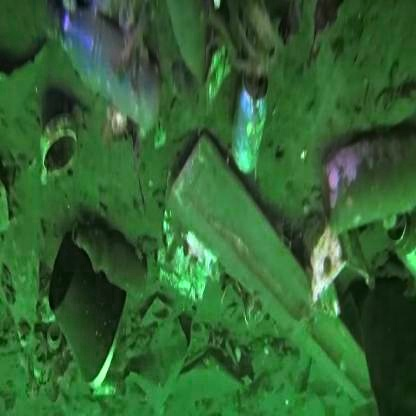can: (225, 40, 273, 195)
gbottle: (63, 200, 154, 316)
pbottle: (63, 1, 182, 141)
plastic: (31, 227, 160, 380)
